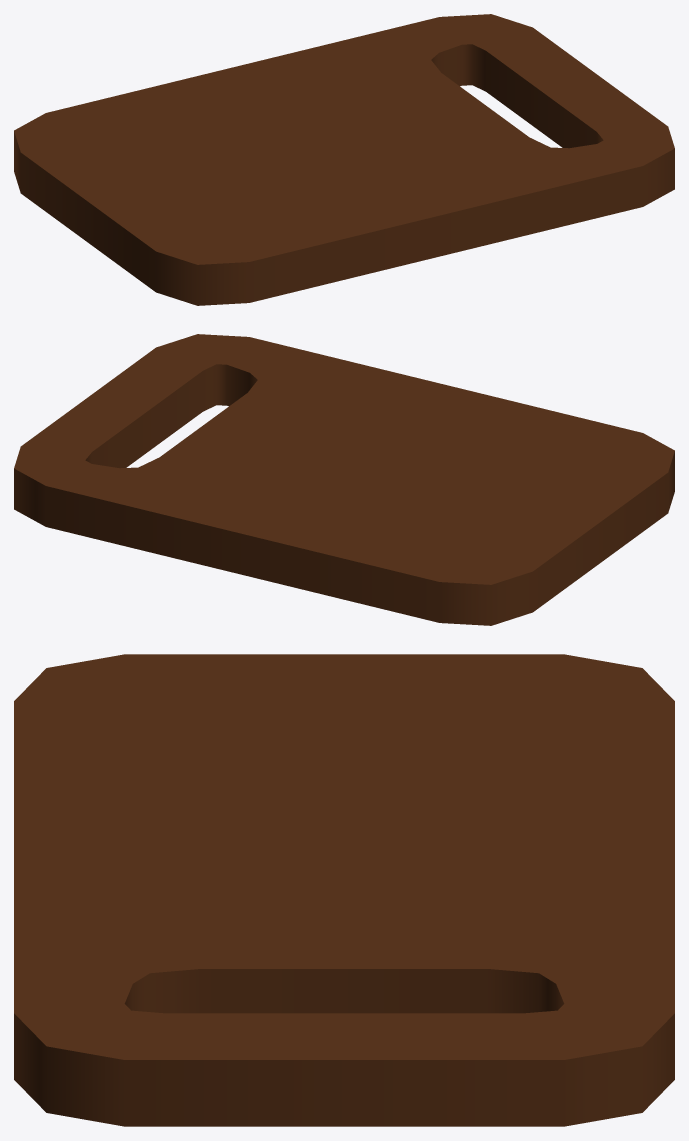
File: chopping board.obj
The picture shows the model from 3 angles, top to bottom: view 1: azimuth 30°, elevation 25°; view 2: azimuth 150°, elevation 25°; view 3: azimuth 270°, elevation 25°; orthographic projection. The views are drawn at different scales.
Visible parts, largest first — view 1: Plane; view 2: Plane; view 3: Plane.
Part boxes in pixels (bbox=[...]): Plane: bbox=[14, 14, 674, 305]; Plane: bbox=[14, 334, 674, 625]; Plane: bbox=[14, 654, 674, 1126].
Size of the model in its own units: 2.19 by 0.1679 by 1.51.
